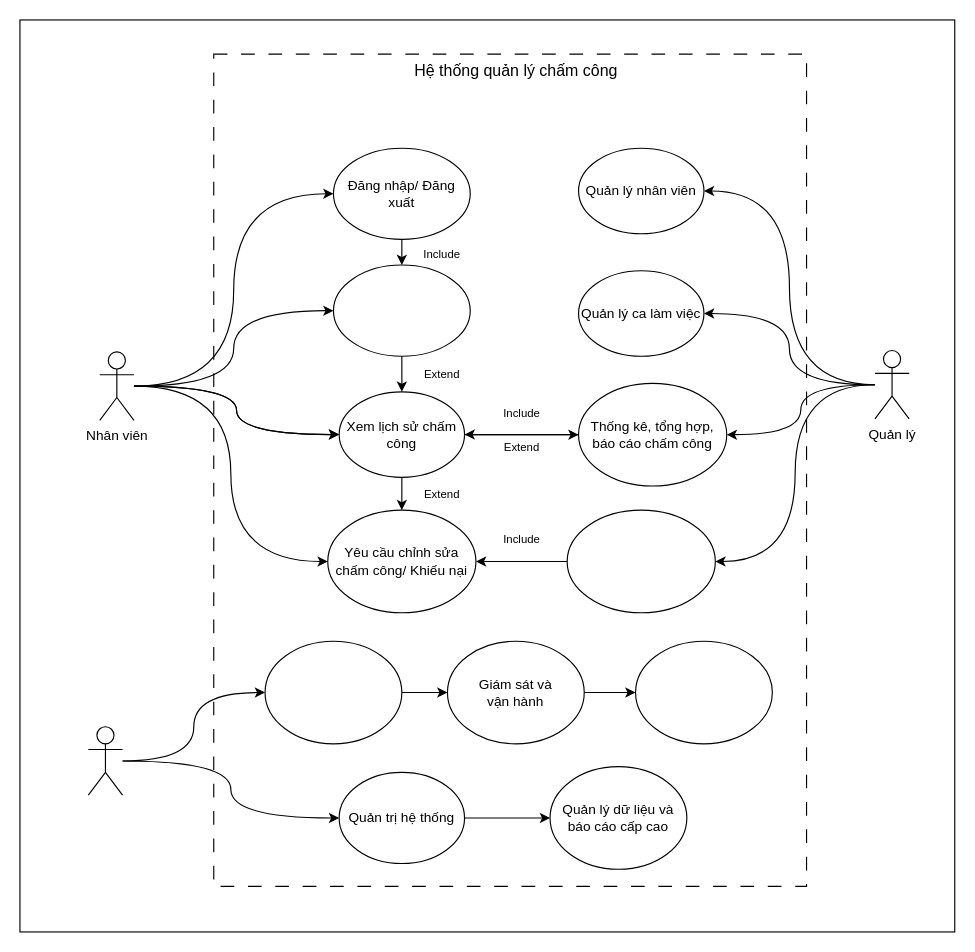
The diagram is 975 pixels wide and 952 high, and some of its shapes have lost their labels. The centre of each missing label's shape, as x and y in pixels:
"Admin" goes at point 105,760.
"Bảo mật và kiểm soát truy cập" goes at point 333,692.
"Checkin / Checkout" goes at point 401,310.
"Cải tiến và bảo trì hệ thống" goes at point 703,692.
"Phản hồi chỉnh sửa chấm công/ Khiếu nại" goes at point 640,561.
